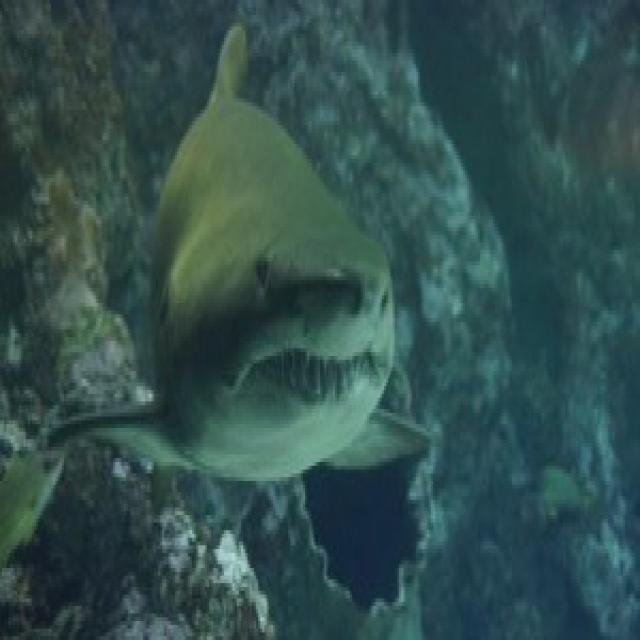Shark: (30, 8, 442, 524)
